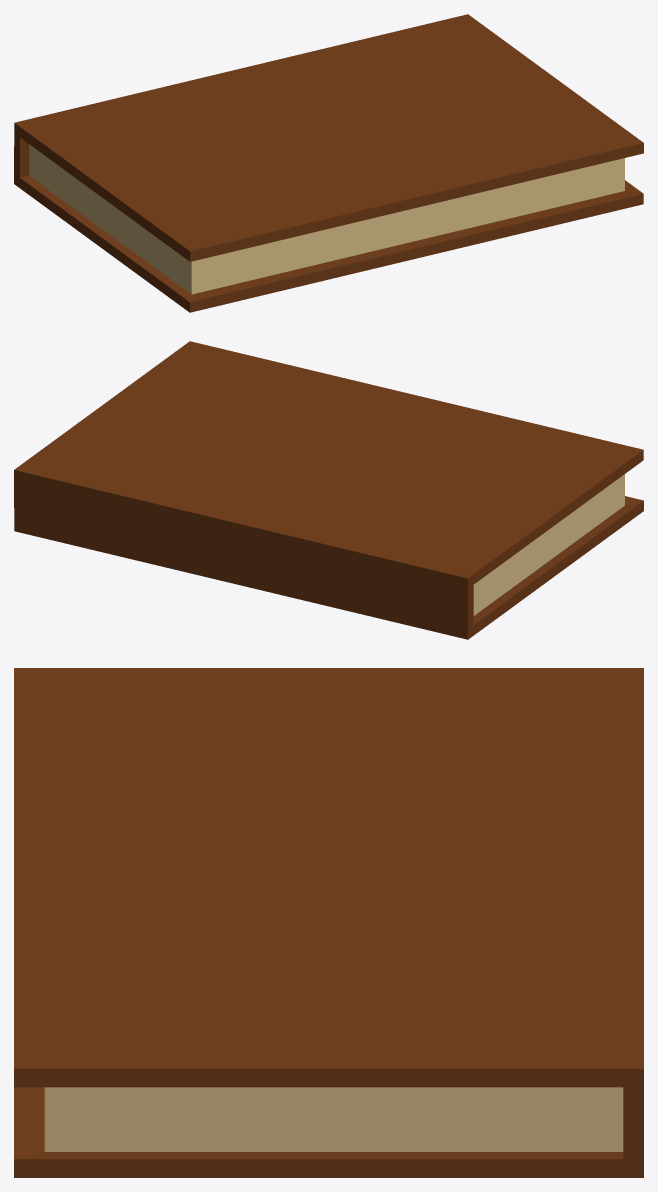
Rendered from Book1_032.fbx.
3 views of the same model, one above another, from view 1: azimuth 30°, elevation 25°; view 2: azimuth 150°, elevation 25°; view 3: azimuth 270°, elevation 25° (orthographic). The views are drawn at different scales.
Parts seen in each view (by area): view 1: Book1.032; view 2: Book1.032; view 3: Book1.032.
Boxes of the visible parts, box(x1,y1,x2,y2) form: Book1.032: box(14, 14, 643, 312); Book1.032: box(14, 341, 643, 639); Book1.032: box(14, 668, 643, 1177).
Size of the model in its own units: 56.76 by 7.58 by 38.09.
